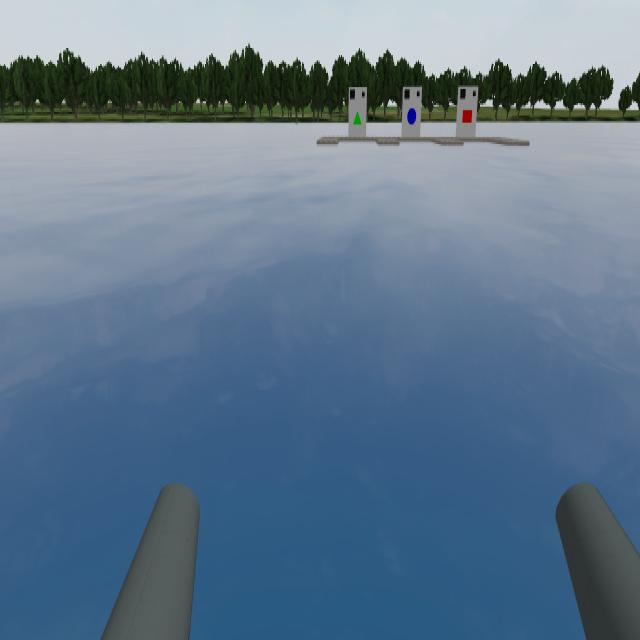dock: (402, 85, 422, 136), (347, 87, 367, 136), (456, 87, 476, 133)
